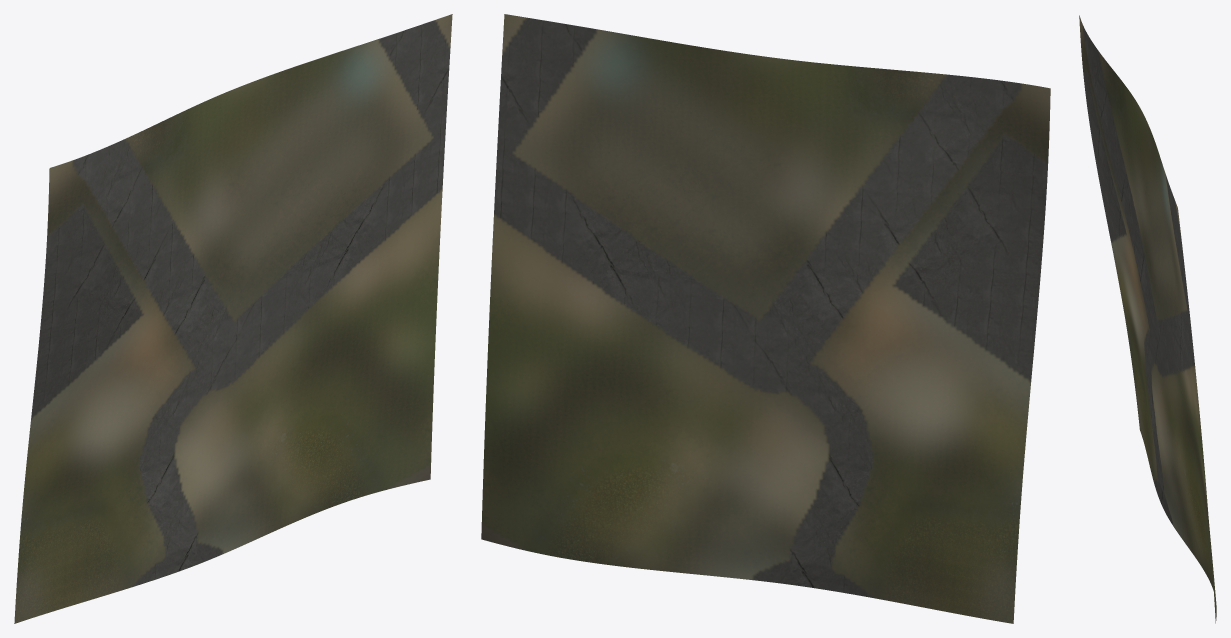
Rendered from ground_core_05_04.obj.
3 views of the same model, side by side, from view 1: azimuth 30°, elevation 25°; view 2: azimuth 150°, elevation 25°; view 3: azimuth 270°, elevation 25° (orthographic). The views are drawn at different scales.
Visible parts, largest first — view 1: ground_core_05_04; view 2: ground_core_05_04; view 3: ground_core_05_04.
Part boxes in pixels (x1=…): ground_core_05_04: x1=14, y1=14, x2=452, y2=623; ground_core_05_04: x1=481, y1=14, x2=1050, y2=623; ground_core_05_04: x1=1079, y1=15, x2=1216, y2=623.
Size of the model in its own units: 50 by 50 by 14.97.
Materials: 1 (1 with a texture image).
